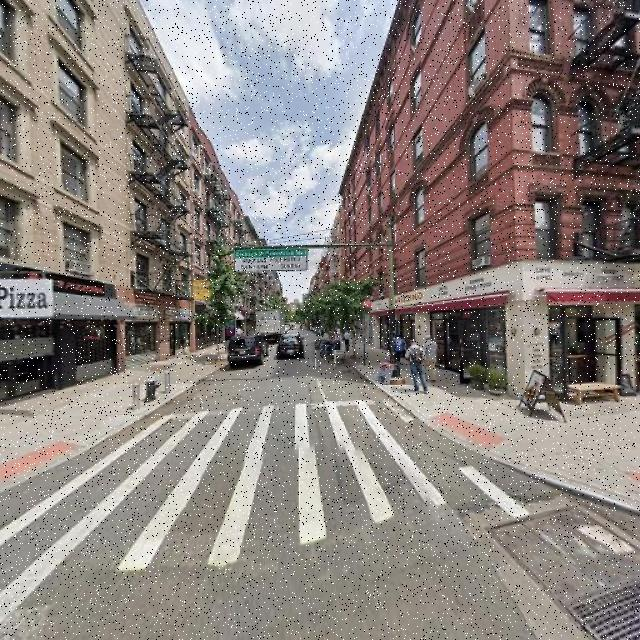Building: (337, 1, 640, 389), (1, 1, 235, 404)
